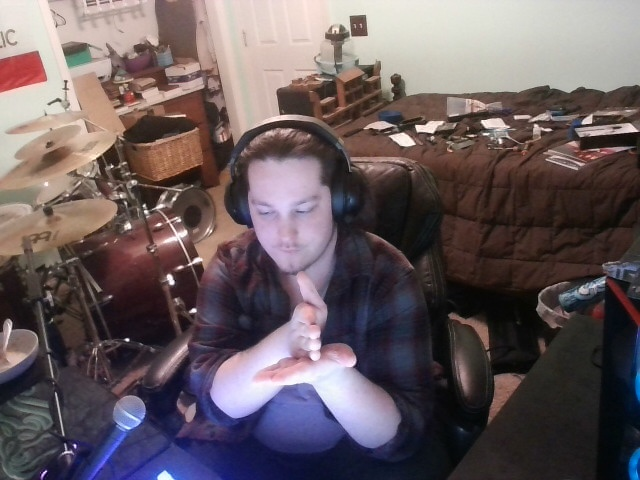stop: (248, 261, 380, 395)
